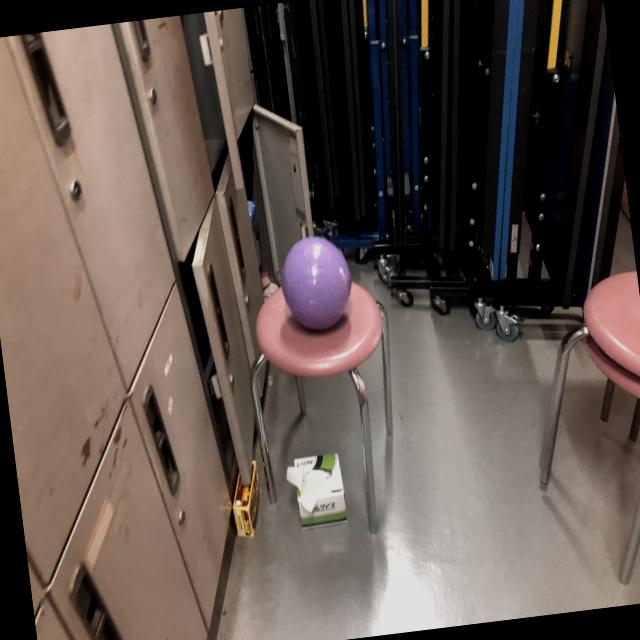purple_ball: (278, 235, 356, 331)
